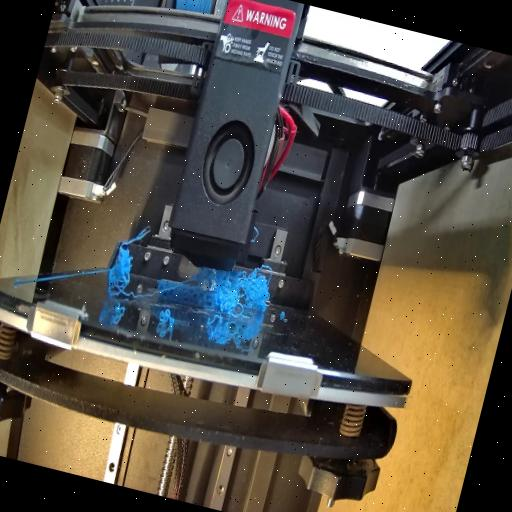spaghetti: (208, 269, 284, 330), (100, 250, 140, 321), (182, 267, 216, 325), (158, 302, 181, 324)
